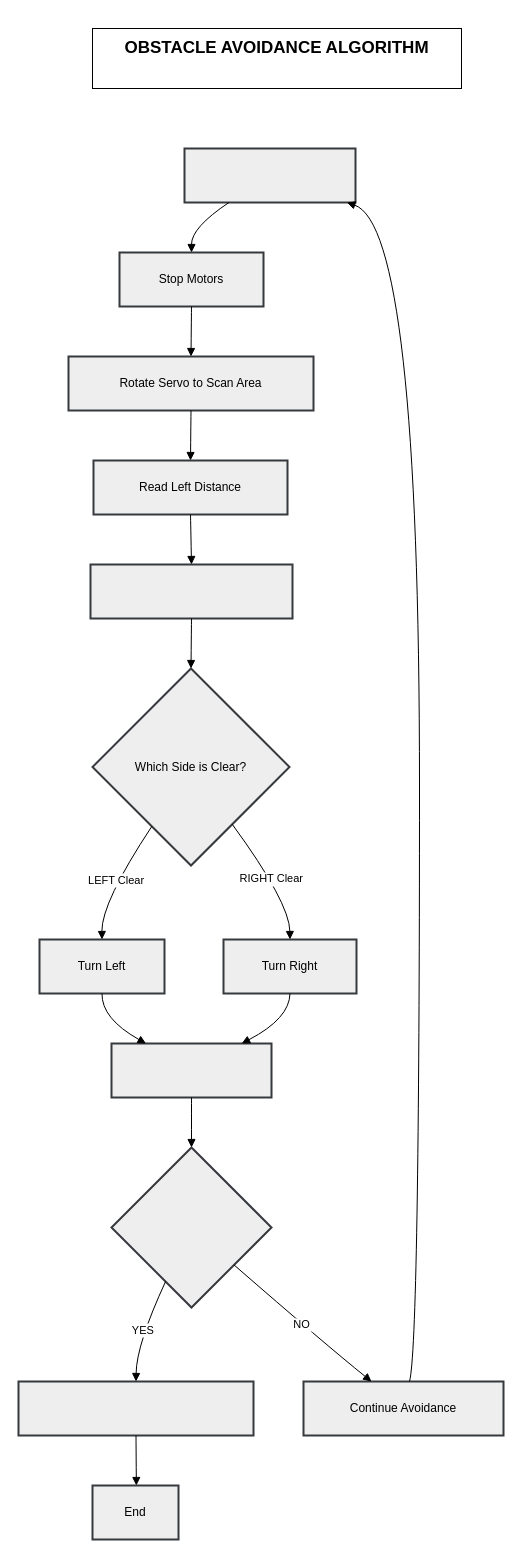
The diagram is 521 pixels wide and 1557 high, and some of its shapes have lost their labels. The centre of each missing label's shape, as x and y in pixels:
"Line Detected?" goes at (x=191, y=1227).
"Move Forward" goes at (x=191, y=1070).
"Read Right Distance" goes at (x=191, y=591).
"Return to Line Following" goes at (x=135, y=1408).
"Start Avoidance" goes at (x=269, y=175).
